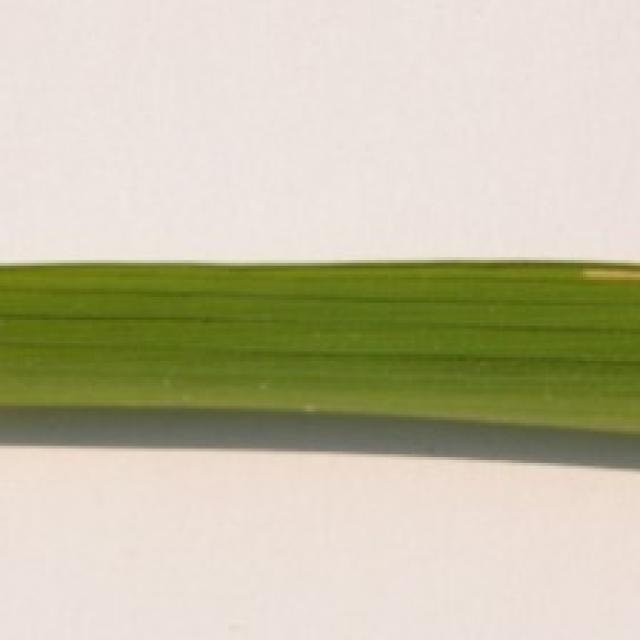Rice___Bacterial_Leaf_Blight: (0, 259, 637, 438)
